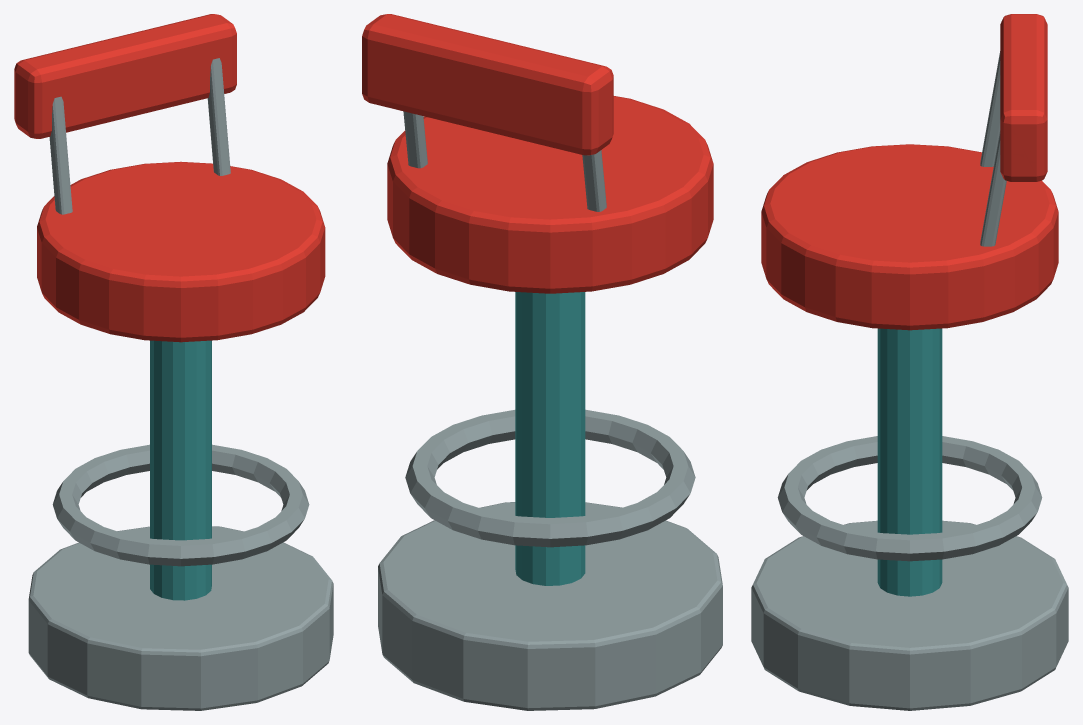
Rendered from S029_swivel_bar_stool.glb.
The picture shows the model from 3 angles, left to right: view 1: azimuth 30°, elevation 25°; view 2: azimuth 150°, elevation 25°; view 3: azimuth 270°, elevation 25°; orthographic projection. The views are drawn at different scales.
Visible parts, largest first — view 1: round_seat, stool_base, small_backrest, stool_pedestal, foot_ring, back_stalk.001, back_stalk; view 2: stool_base, round_seat, small_backrest, stool_pedestal, foot_ring, back_stalk, back_stalk.001; view 3: round_seat, stool_base, stool_pedestal, foot_ring, small_backrest, back_stalk.001, back_stalk.
Part boxes in pixels (left/top/right/bottom): round_seat: left=37, top=161, right=325, bottom=342; stool_base: left=28, top=526, right=333, bottom=710; small_backrest: left=14, top=14, right=236, bottom=138; stool_pedestal: left=150, top=340, right=211, bottom=600; foot_ring: left=52, top=444, right=309, bottom=566; back_stalk.001: left=207, top=58, right=230, bottom=175; back_stalk: left=49, top=96, right=72, bottom=214; stool_base: left=378, top=502, right=722, bottom=710; round_seat: left=387, top=96, right=713, bottom=293; small_backrest: left=362, top=14, right=613, bottom=155; stool_pedestal: left=515, top=292, right=585, bottom=585; foot_ring: left=405, top=409, right=695, bottom=547; back_stalk: left=582, top=150, right=606, bottom=211; back_stalk.001: left=403, top=111, right=427, bottom=168; round_seat: left=761, top=144, right=1058, bottom=330; stool_base: left=751, top=520, right=1068, bottom=710; stool_pedestal: left=877, top=328, right=942, bottom=596; foot_ring: left=777, top=436, right=1042, bottom=561; small_backrest: left=1000, top=14, right=1047, bottom=181; back_stalk.001: left=980, top=131, right=1006, bottom=246; back_stalk: left=980, top=51, right=1000, bottom=166.
Size of the model in its own units: 0.64 by 1.3 by 0.64.
